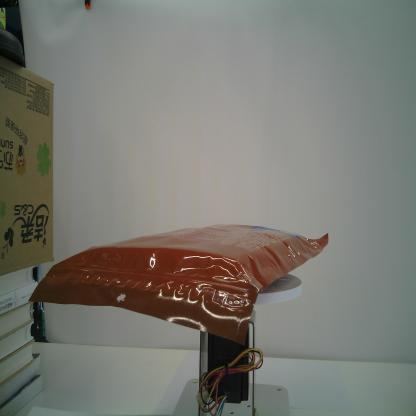Dried Food: (26, 222, 333, 348)
